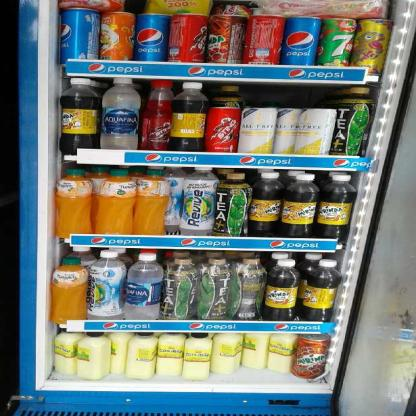7up: (318, 17, 352, 67)
aquafina: (100, 76, 139, 150), (124, 252, 162, 319)
mirinda-cam: (98, 10, 134, 61)
mirinda-xaxi: (206, 13, 244, 64), (292, 334, 328, 379)
mirinda-xaxi-chai: (58, 76, 99, 154), (172, 80, 206, 156), (318, 173, 356, 239), (262, 258, 300, 322), (302, 258, 340, 321), (282, 172, 316, 236), (249, 170, 280, 236)
olong-tea: (334, 86, 376, 155), (214, 171, 250, 237), (162, 256, 199, 319), (198, 256, 232, 321), (231, 256, 263, 321)
pepsi-blue: (61, 7, 100, 62), (281, 16, 318, 66), (134, 11, 168, 64)
pepsi-yellow: (355, 18, 388, 72)
revive-white-chai: (179, 166, 215, 235)
sting-red: (168, 12, 206, 64), (206, 105, 240, 154)
sting-red-chai: (141, 79, 172, 153)
twister-cam: (52, 168, 92, 236), (96, 168, 136, 236), (47, 256, 88, 320), (134, 168, 169, 237)
